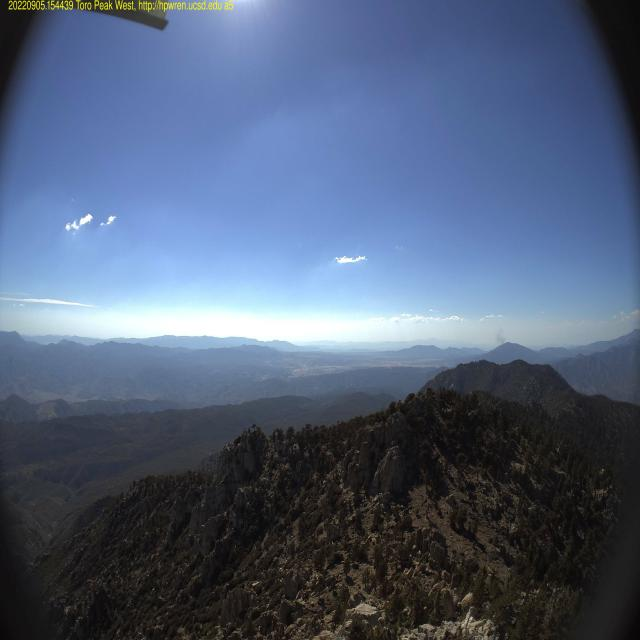smoke: (493, 324, 508, 347)
